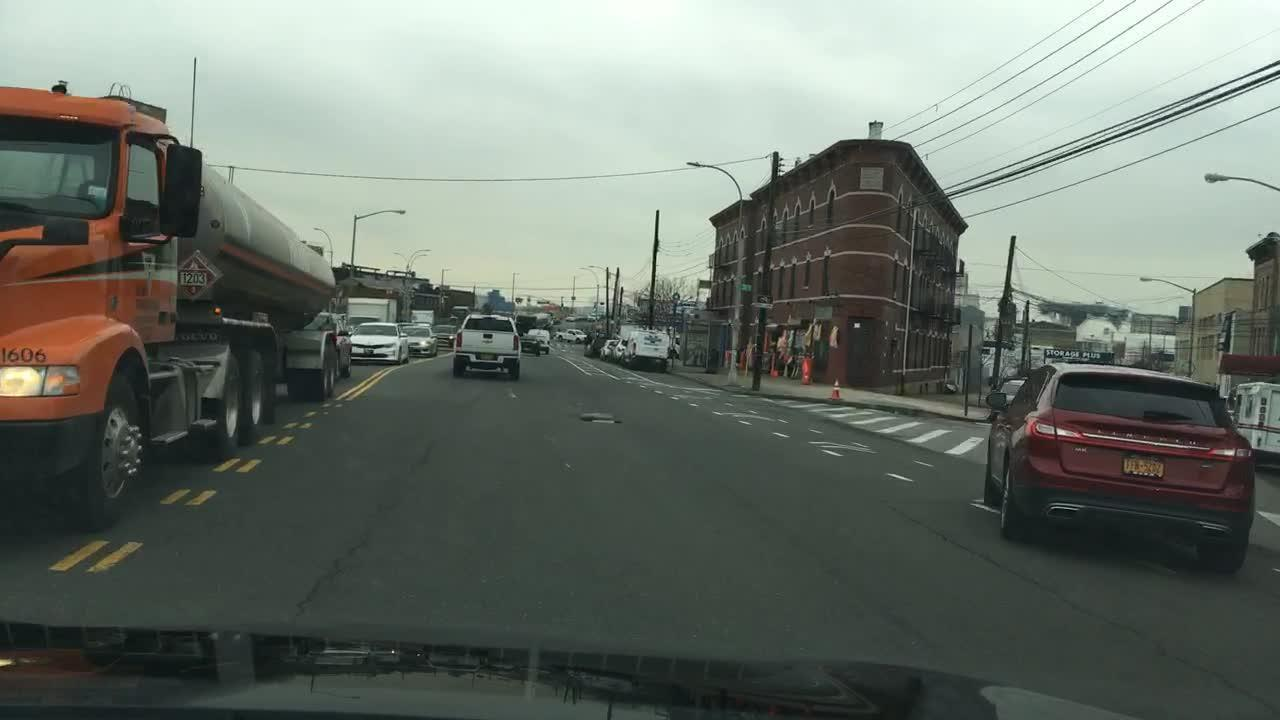lincoln: (1088, 423, 1201, 451)
